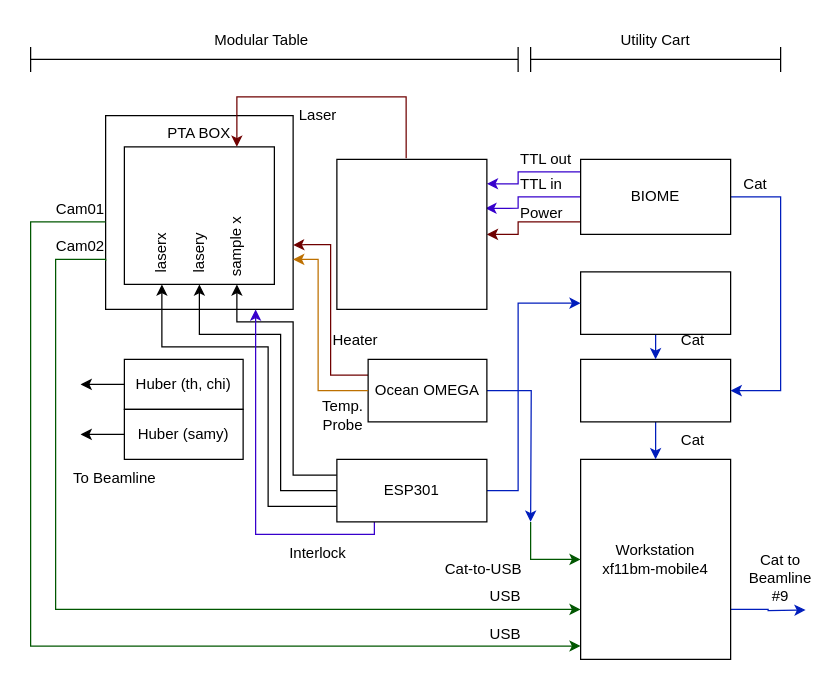
Some shapes in this 840 by 681 pixel diagram are drawn without their labels. Each missing label, with the centre of its shape:
"LASER BOX" goes at point 411,233.
"MOXA" goes at point 655,302.
"NETGEAR BOX" goes at point 655,390.
